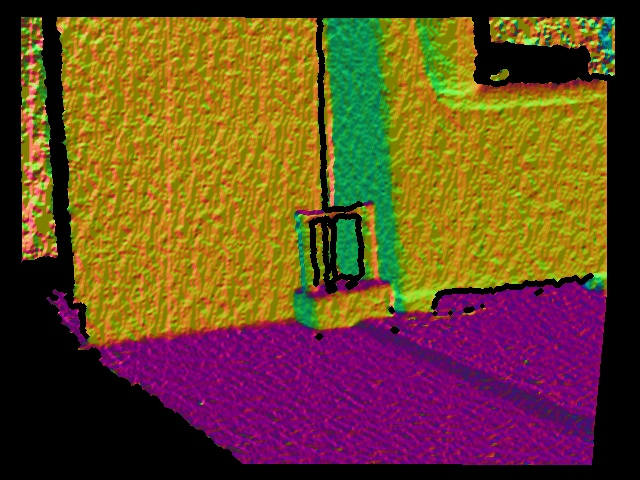station: (294, 201, 396, 328)
